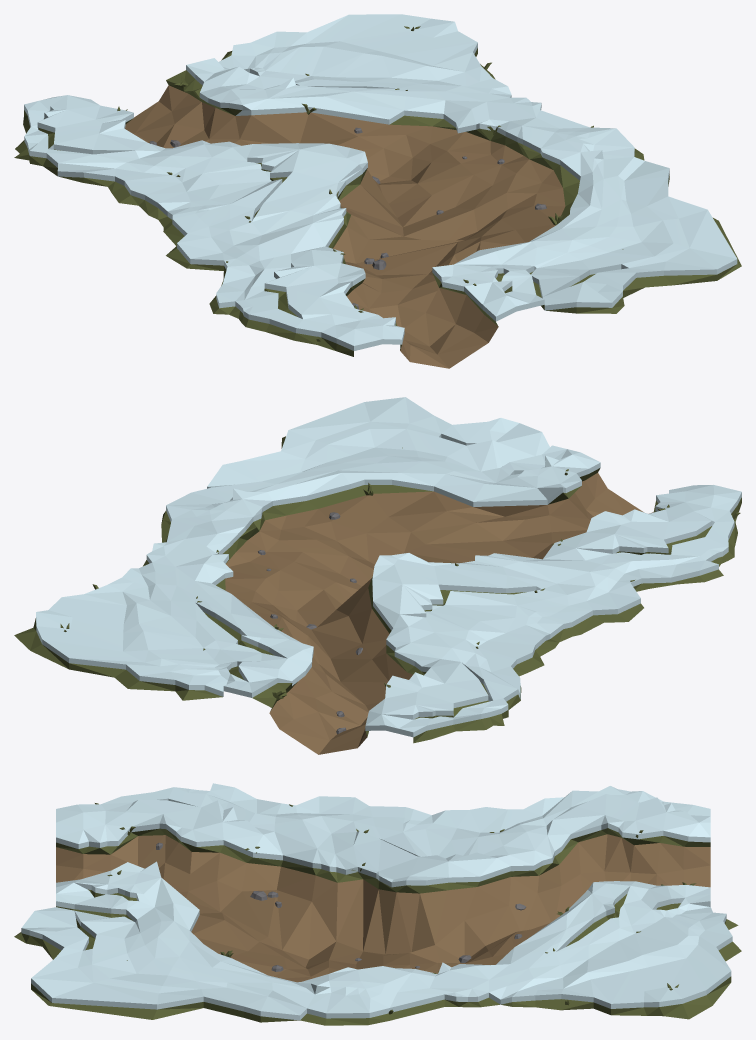
File: SM_Env_Stream_Straight_02_Snow_Test.gltf
3 views of the same model, one above another, from view 1: azimuth 30°, elevation 25°; view 2: azimuth 150°, elevation 25°; view 3: azimuth 270°, elevation 25° (orthographic).
Visible parts, largest first — view 1: SM_Env_Stream_Straight_02_Snow_Test; view 2: SM_Env_Stream_Straight_02_Snow_Test; view 3: SM_Env_Stream_Straight_02_Snow_Test.
Part boxes in pixels (x1,y1,x2,y2): SM_Env_Stream_Straight_02_Snow_Test: (14,14,741,368); SM_Env_Stream_Straight_02_Snow_Test: (14,397,741,754); SM_Env_Stream_Straight_02_Snow_Test: (14,783,741,1025).
Size of the model in its own units: 12.76 by 1.65 by 16.68.
Materials: 1 (1 with a texture image).
